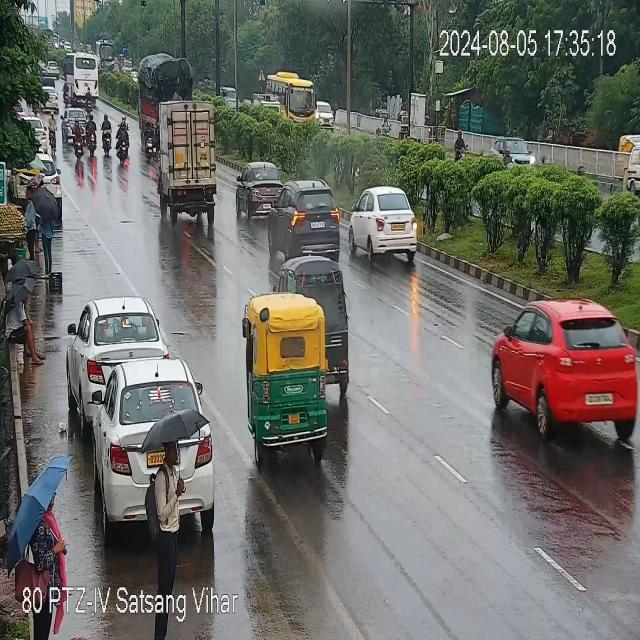2-wheelers: (70, 114, 85, 162), (142, 120, 158, 164), (84, 112, 96, 161), (118, 125, 132, 167), (102, 116, 113, 150), (455, 128, 467, 156), (120, 113, 127, 126)
auto: (243, 291, 332, 464), (282, 254, 359, 378)
bus: (268, 72, 314, 124), (64, 52, 100, 95)
car: (490, 297, 640, 447), (91, 361, 210, 491), (72, 298, 163, 407), (266, 180, 344, 279), (345, 186, 419, 266), (237, 164, 284, 222), (494, 130, 535, 164)
pedestrian: (150, 436, 194, 588), (28, 488, 73, 589), (23, 181, 63, 273), (4, 287, 48, 369)
truck: (157, 97, 224, 224), (136, 48, 194, 123)
